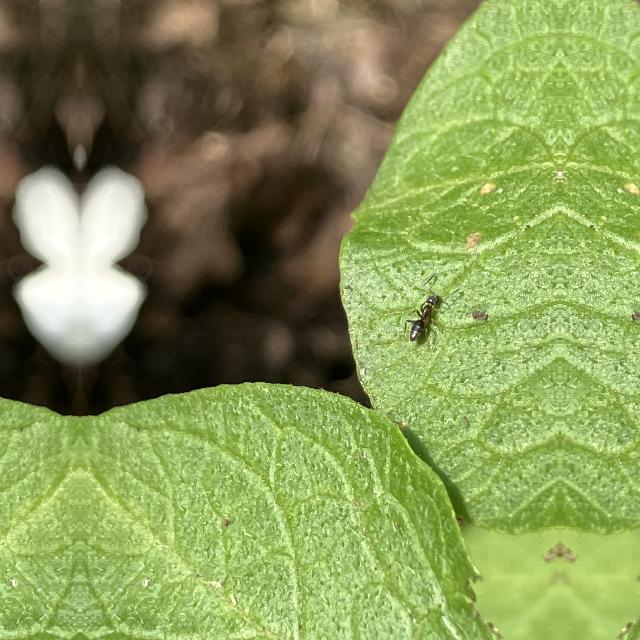Tapinoma: (399, 281, 445, 347)
